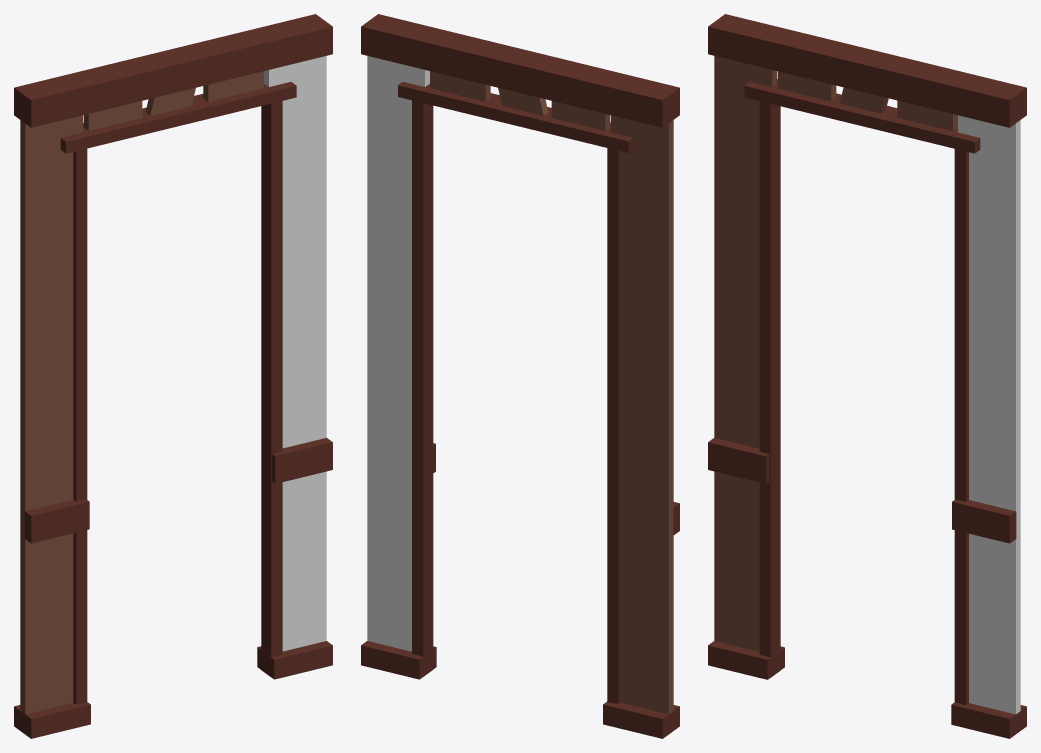
The model's file is ScrapDoor3.fbx.
The picture shows the model from 3 angles, left to right: view 1: azimuth 30°, elevation 25°; view 2: azimuth 150°, elevation 25°; view 3: azimuth 330°, elevation 25°; orthographic projection.
Parts seen in each view (by area): view 1: Cube; view 2: Cube; view 3: Cube.
Boxes of the visible parts, x1,y1,x2,y2 form: Cube: (14, 14, 332, 738); Cube: (361, 14, 679, 738); Cube: (708, 14, 1026, 738).
Bounding box in the file's own units: 200 × 405 × 19.8.
